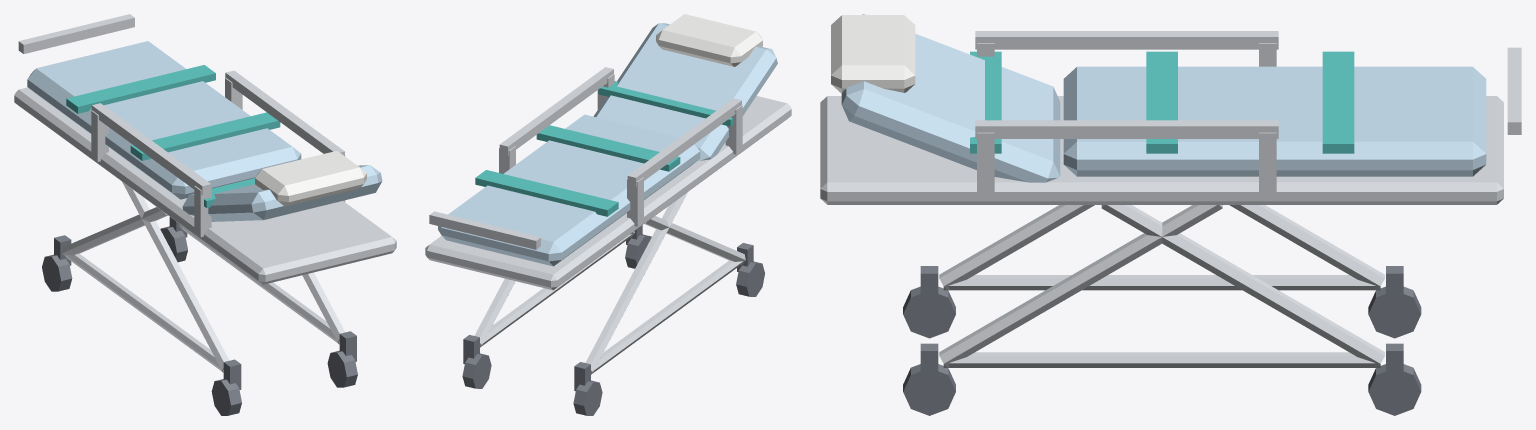
Rendered from medical-23653.glb.
3 renders of one model, left to right at view 1: azimuth 30°, elevation 25°; view 2: azimuth 150°, elevation 25°; view 3: azimuth 270°, elevation 25°, orthographic. The views are drawn at different scales.
Parts seen in each view (by area): view 1: stretcher; view 2: stretcher; view 3: stretcher.
Boxes of the visible parts, box(x1,y1,x2,y2) form: stretcher: box(14, 14, 396, 415); stretcher: box(425, 14, 791, 415); stretcher: box(820, 14, 1521, 415).
Bounding box in the file's own units: 0.6499 × 1.05 × 1.99.
